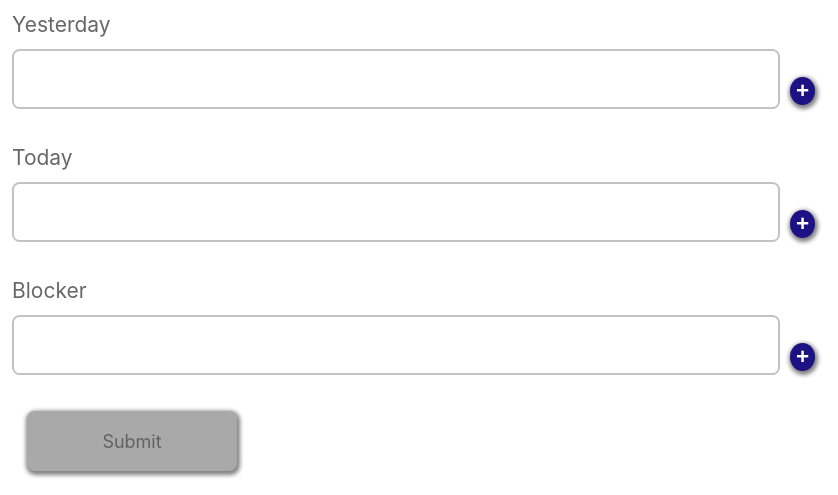
FormComponent › should disable the submit button after first click
Type "Working on a backend Go project1" into the field with test id "Yesterday0" at (396, 79), box [12,49,780,109]
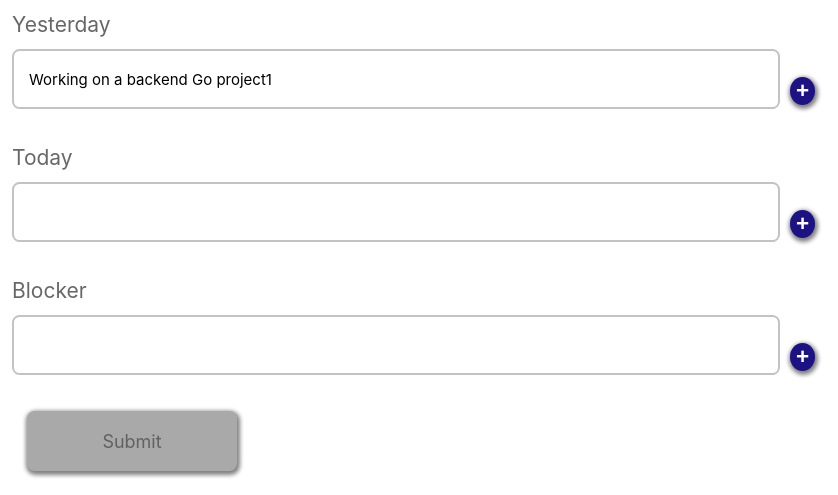
Type "Working on a live-site project" into the field with test id "Today0" at (396, 212), box [12,182,780,242]
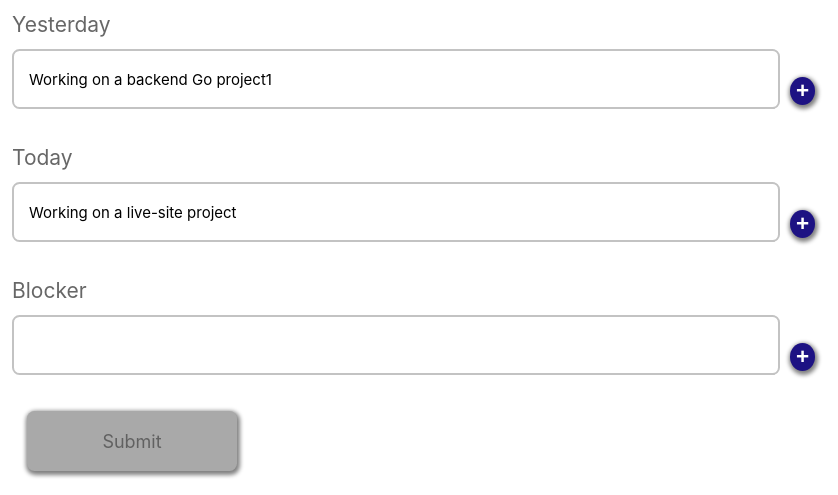
Type "None" into the field with test id "Blocker0" at (396, 345), box [12,315,780,375]
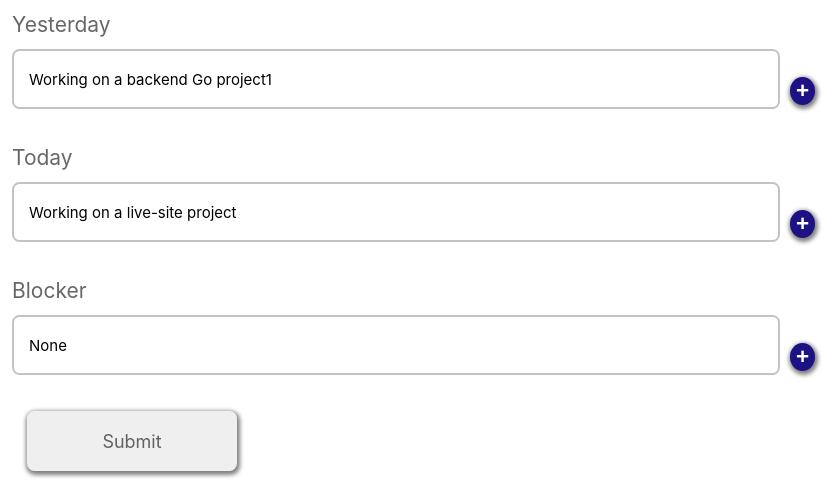
Expected: the button with class "submitButton" is enabled, [27,411,237,471]
Submit the form
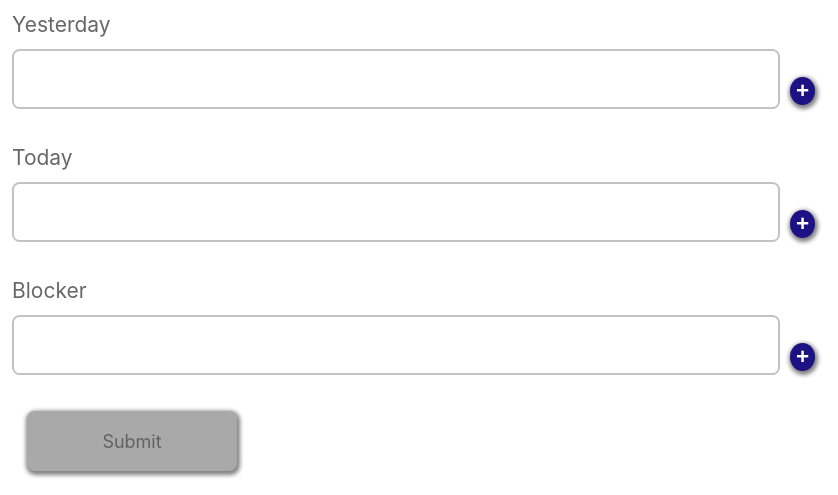
Expected: the button with class "submitButton" is disabled, [27,411,237,471]
